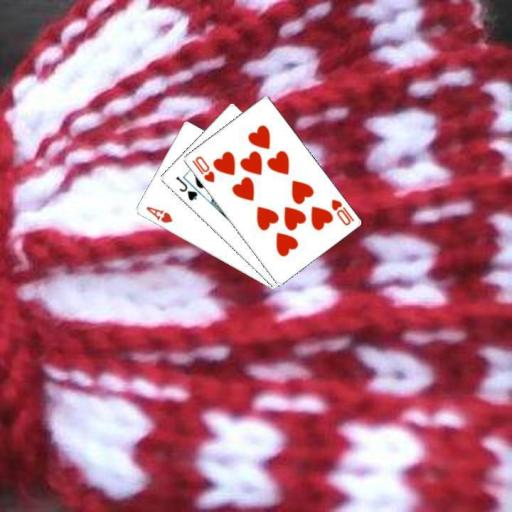card-corner: (328, 195, 355, 227), (189, 153, 216, 184), (172, 173, 199, 202), (142, 203, 174, 225)
